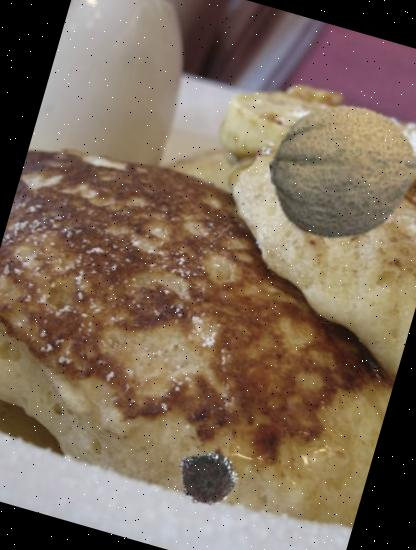Cantaloupe: (252, 80, 416, 264)
Rambutan: (164, 438, 244, 516)
